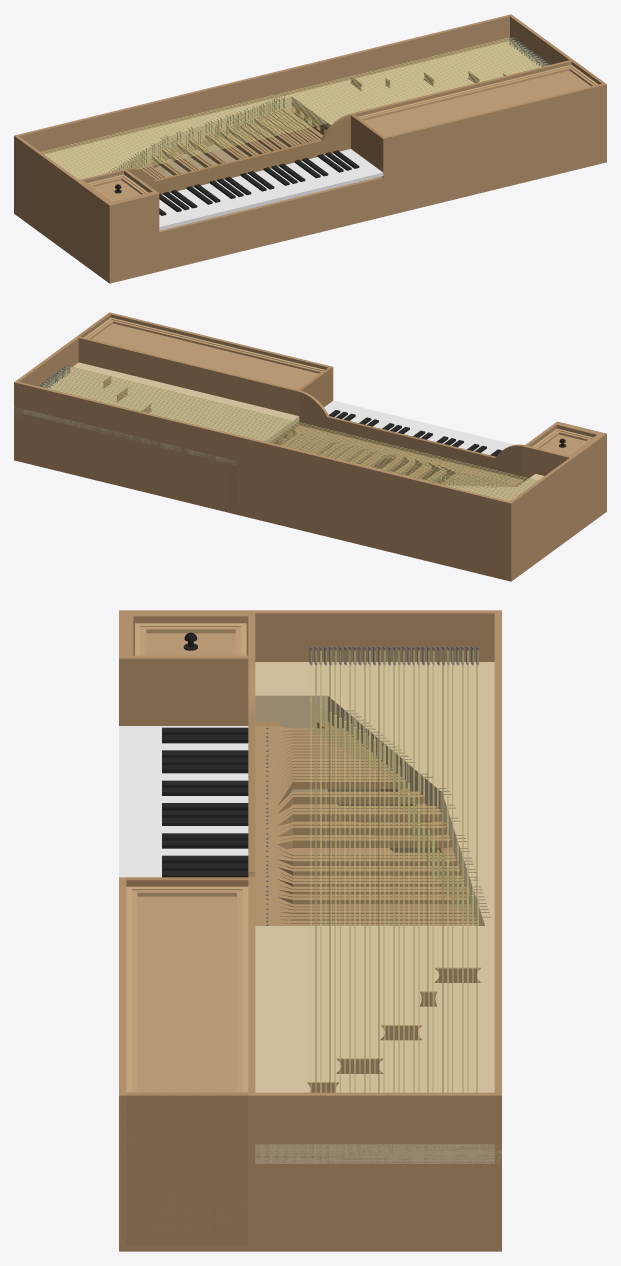
The model's file is mersennes_clavichord.glb.
3 renders of one model, top to bottom at view 1: azimuth 30°, elevation 25°; view 2: azimuth 150°, elevation 25°; view 3: azimuth 270°, elevation 25°, orthographic. The views are drawn at different scales.
Bounding box in the file's own units: 1.44 × 0.2204 × 0.4812.
